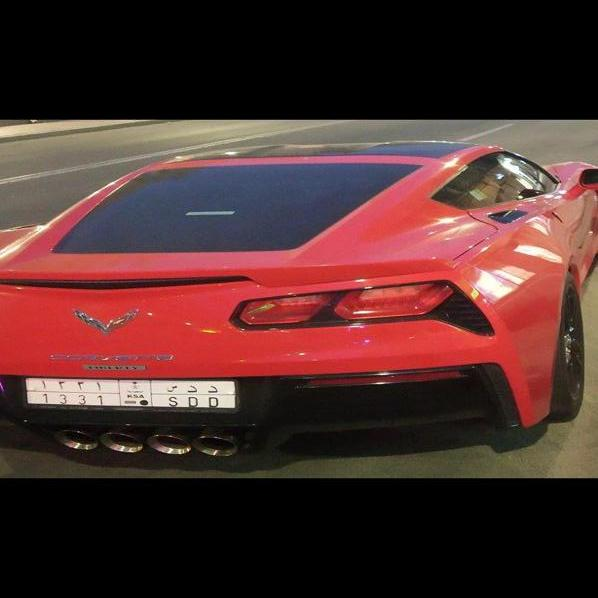numberplate: (23, 372, 239, 412)
